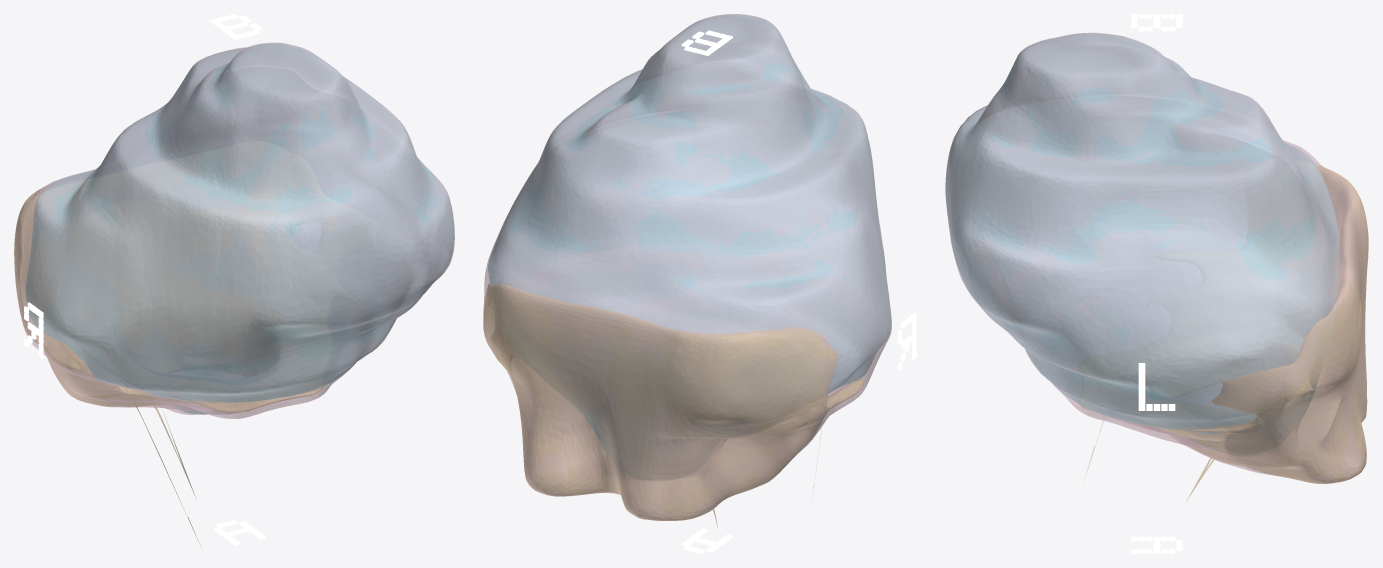
3 views of the same model, side by side, from view 1: azimuth 30°, elevation 25°; view 2: azimuth 150°, elevation 25°; view 3: azimuth 270°, elevation 25° (orthographic). The views are drawn at different scales.
Parts seen in each view (by area): view 1: prostate_gland, transition_zone, peripheral_zone, pv_ar_marker_B, pv_ar_marker_R, pv_ar_marker_A; view 2: prostate_gland, transition_zone, peripheral_zone, pv_ar_marker_B, pv_ar_marker_R, pv_ar_marker_A; view 3: prostate_gland, transition_zone, peripheral_zone, pv_ar_marker_B, pv_ar_marker_A, pv_ar_marker_L.
Part boxes in pixels (box(x1,y1,x2,y2)): prostate_gland: box(14, 42, 454, 418); transition_zone: box(26, 43, 454, 413); peripheral_zone: box(14, 188, 322, 545); pv_ar_marker_B: box(210, 14, 262, 39); pv_ar_marker_R: box(24, 302, 43, 358); pv_ar_marker_A: box(214, 520, 265, 545); prostate_gland: box(483, 14, 891, 520); transition_zone: box(488, 15, 891, 450); peripheral_zone: box(483, 283, 864, 527); pv_ar_marker_B: box(681, 30, 732, 55); pv_ar_marker_R: box(897, 312, 916, 370); pv_ar_marker_A: box(681, 528, 732, 553); prostate_gland: box(945, 32, 1367, 483); transition_zone: box(946, 33, 1340, 434); peripheral_zone: box(1081, 165, 1368, 501); pv_ar_marker_B: box(1131, 14, 1182, 31); pv_ar_marker_A: box(1131, 536, 1182, 553); pv_ar_marker_L: box(1138, 363, 1175, 410).
Bounding box in the file's own units: 0.0571 × 0.0675 × 0.0494.
